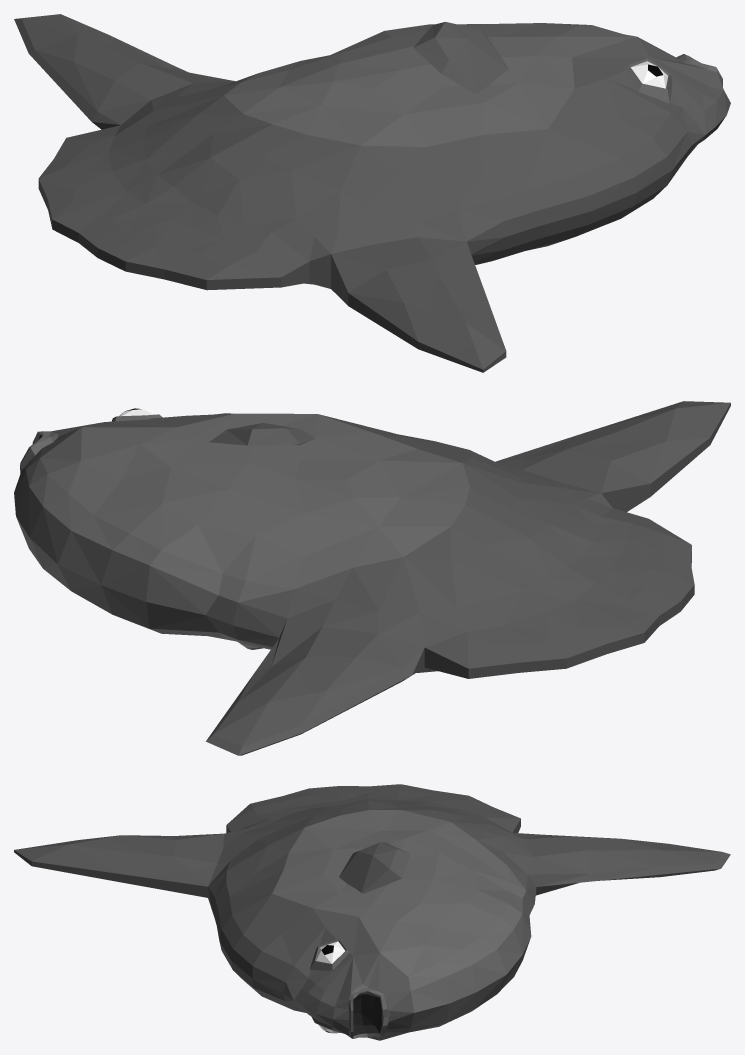
File: Sunfish.glb
The picture shows the model from 3 angles, top to bottom: view 1: azimuth 30°, elevation 25°; view 2: azimuth 150°, elevation 25°; view 3: azimuth 270°, elevation 25°; orthographic projection. The views are drawn at different scales.
Visible parts, largest first — view 1: Sunfish; view 2: Sunfish; view 3: Sunfish.
Boxes of the visible parts, bbox=[...] form: Sunfish: bbox=[14, 14, 730, 372]; Sunfish: bbox=[14, 401, 730, 755]; Sunfish: bbox=[14, 784, 730, 1040].
Bounding box in the file's own units: 1.52 × 0.4978 × 1.98.
Materials: 1 (1 with a texture image).
